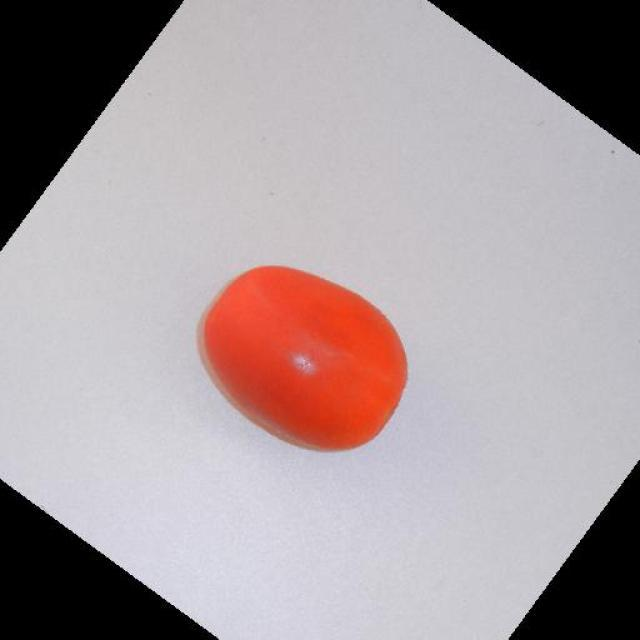Fresh Tomato: (165, 232, 434, 482)
